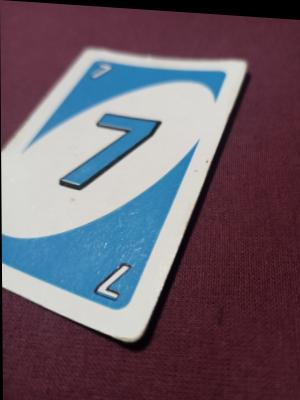blue: (77, 67, 156, 294)
num_7: (88, 254, 135, 304), (88, 56, 114, 91)
